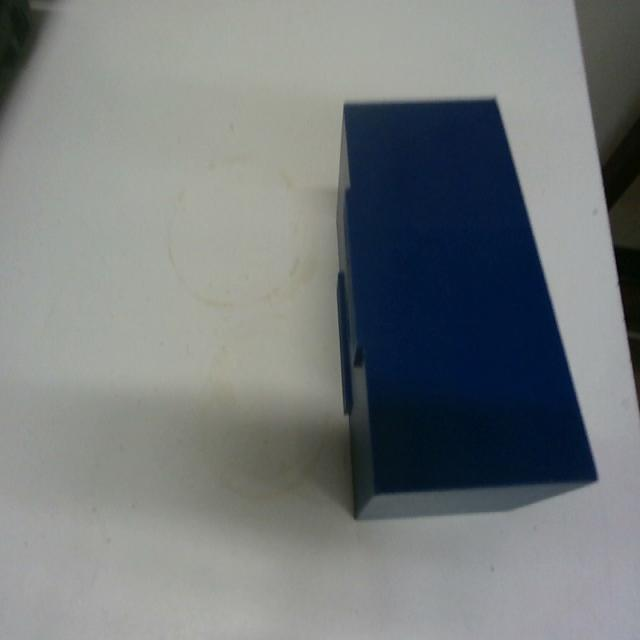Blue Cuboid: (332, 92, 599, 520)
